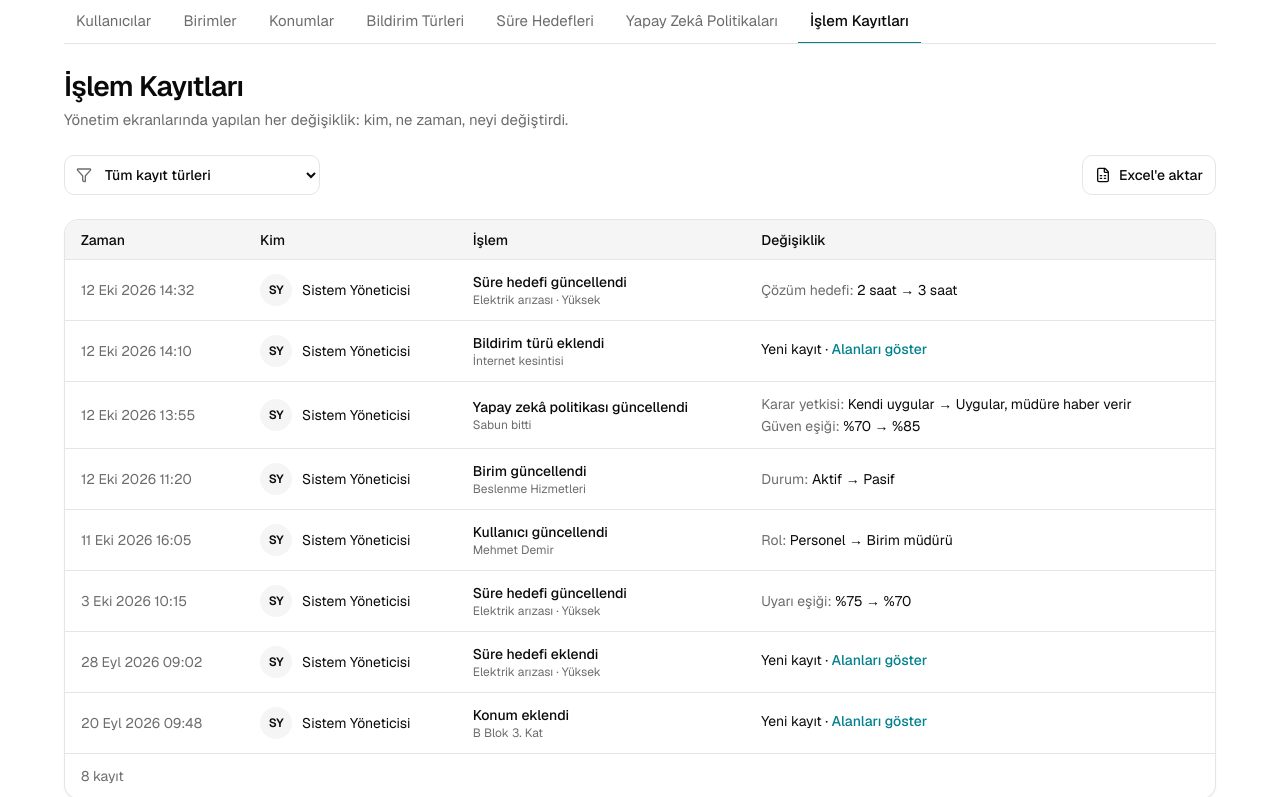
Test case: AuditLogsScreen › keeps the fields of a new record folded until asked
Expected: the text "B Blok 3. Kat" is shown, [473,725,543,741]
Expected: the text "Yeni kayıt" in the row of "20 Eyl 2026 09:48" is shown, [761,712,822,730]
Click the button "Alanları göster" in the row of "20 Eyl 2026 09:48" at (879, 721), box [832,711,927,731]
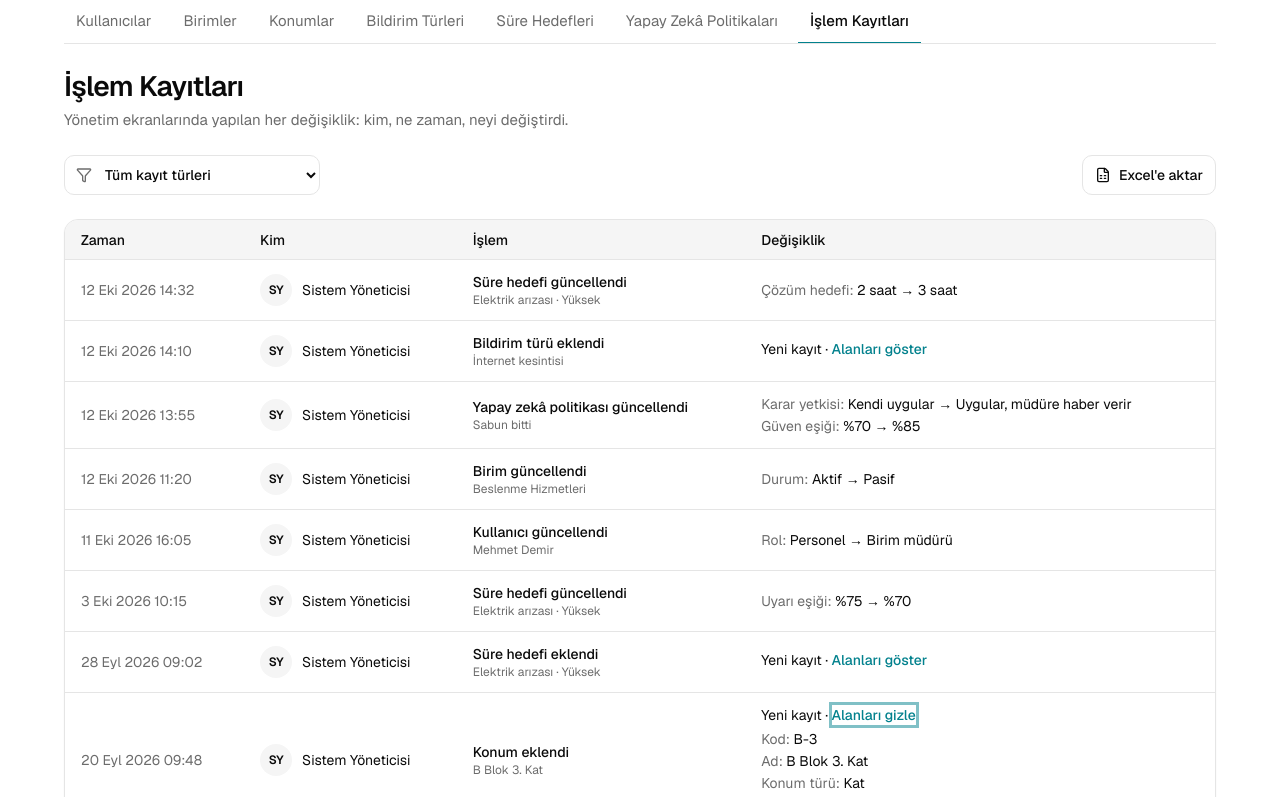
Now the text "Kat" is shown, box [843,774,865,792]
